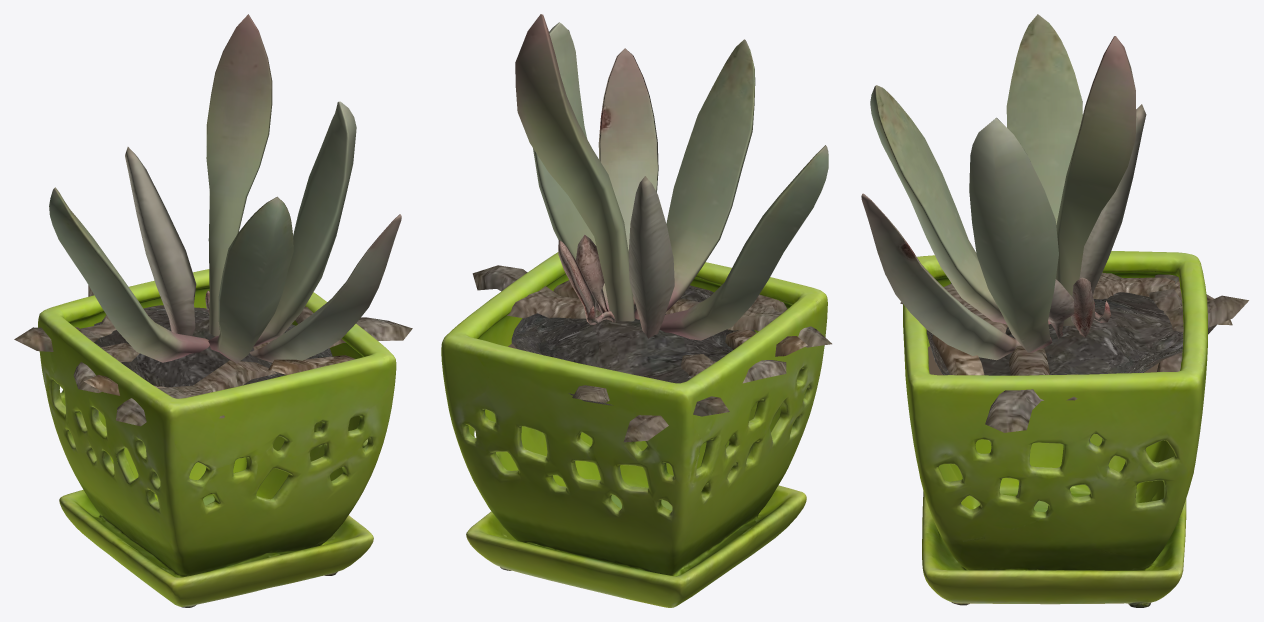
Rendered from ph-succulent-lime.glb.
3 renders of one model, left to right at view 1: azimuth 30°, elevation 25°; view 2: azimuth 150°, elevation 25°; view 3: azimuth 270°, elevation 25°, orthographic. The views are drawn at different scales.
Visible parts, largest first — view 1: Down_To_Earth_Orchid_Pot_Ceramic_Lime, cheiridopsis_succulent_a_LOD0; view 2: Down_To_Earth_Orchid_Pot_Ceramic_Lime, cheiridopsis_succulent_a_LOD0; view 3: cheiridopsis_succulent_a_LOD0, Down_To_Earth_Orchid_Pot_Ceramic_Lime.
Boxes of the visible parts, x1,y1,x2,y2 form: Down_To_Earth_Orchid_Pot_Ceramic_Lime: [38, 269, 396, 607]; cheiridopsis_succulent_a_LOD0: [14, 14, 412, 426]; Down_To_Earth_Orchid_Pot_Ceramic_Lime: [441, 252, 827, 607]; cheiridopsis_succulent_a_LOD0: [472, 14, 831, 442]; cheiridopsis_succulent_a_LOD0: [861, 14, 1248, 432]; Down_To_Earth_Orchid_Pot_Ceramic_Lime: [903, 251, 1207, 607].
Size of the model in its own units: 0.2012 by 0.2826 by 0.1772.
Materials: 3 (2 with a texture image).
